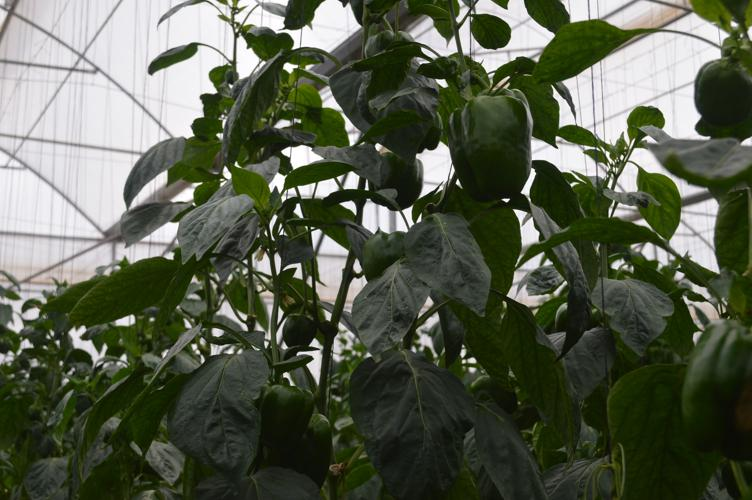BellPepper: (673, 319, 750, 457), (446, 91, 531, 200), (262, 417, 333, 481), (691, 61, 744, 124), (367, 150, 419, 207), (257, 388, 313, 431), (362, 32, 413, 54), (279, 318, 312, 347)
